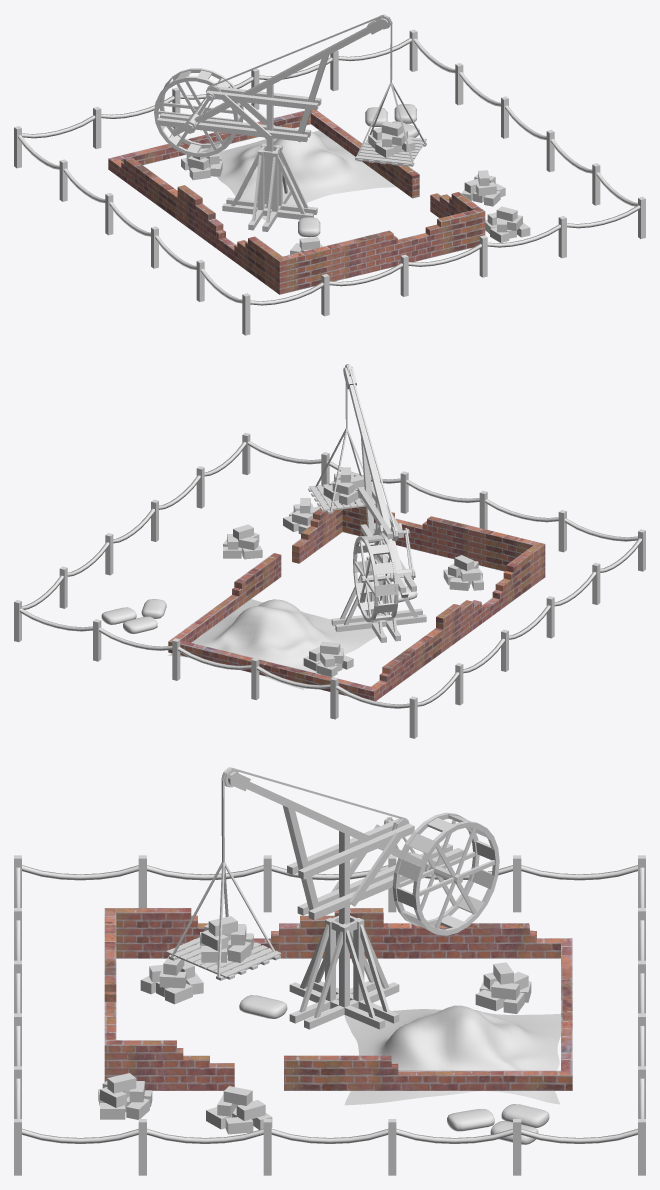
Rendered from factoryLV0.fbx.
3 renders of one model, top to bottom at view 1: azimuth 30°, elevation 25°; view 2: azimuth 150°, elevation 25°; view 3: azimuth 270°, elevation 25°, orthographic. The views are drawn at different scales.
Visible parts, largest first — view 1: Plane, Cube.062, Cube.041, Plane.001, Cylinder.001, Cube.002, Cube.065, Cube.007, Cube.006; view 2: Plane, Cube.062, Cube.041, Plane.001, Cylinder.001, Cube.006, Cube.001, Cube.007, Cube.065, Cube.002; view 3: Plane, Cube.041, Cube.062, Plane.001, Cylinder.001, Cube.007, Cube.006, Cube.002, Cube.001, Cube.065, Cube.004, Cube.040 (+1 smaller).
Boxes of the visible parts, x1,y1,x2,y2 form: Plane: [108, 110, 485, 294]; Cube.062: [14, 29, 645, 335]; Cube.041: [157, 14, 426, 231]; Plane.001: [209, 130, 396, 220]; Cylinder.001: [154, 68, 243, 156]; Cube.002: [485, 206, 530, 242]; Cube.065: [368, 121, 415, 157]; Cube.007: [461, 170, 505, 206]; Cube.006: [181, 148, 222, 180]; Plane: [168, 500, 545, 701]; Cube.062: [14, 432, 645, 738]; Cube.041: [308, 364, 426, 642]; Plane.001: [168, 599, 383, 689]; Cylinder.001: [353, 533, 415, 622]; Cube.006: [303, 641, 353, 676]; Cube.001: [443, 555, 483, 590]; Cube.007: [223, 524, 262, 559]; Cube.065: [323, 467, 364, 505]; Cube.002: [283, 498, 320, 534]; Plane: [104, 908, 572, 1090]; Cube.041: [166, 767, 463, 1029]; Cube.062: [14, 855, 645, 1175]; Plane.001: [344, 1005, 560, 1105]; Cylinder.001: [392, 812, 499, 935]; Cube.007: [206, 1086, 272, 1134]; Cube.006: [475, 962, 531, 1013]; Cube.002: [98, 1073, 152, 1119]; Cube.001: [140, 954, 203, 1004]; Cube.065: [200, 916, 253, 962]; Cube.004: [239, 995, 287, 1018]; Cube.040: [447, 1109, 494, 1131].
Size of the model in its own units: 1013 by 525 by 1013.
